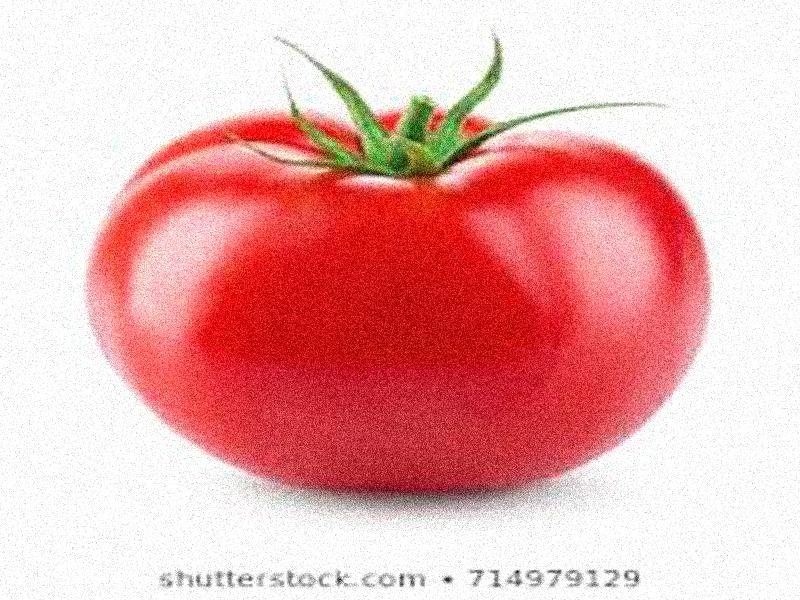Tomato: (84, 114, 709, 489)
